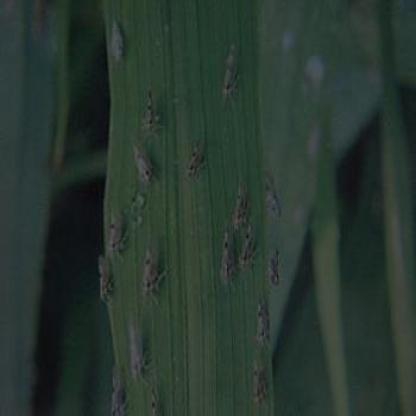brown-planthopper: (124, 322, 148, 383), (140, 243, 164, 301), (223, 46, 244, 110), (186, 134, 212, 180), (141, 87, 160, 142), (232, 183, 254, 230), (93, 256, 115, 302), (109, 213, 130, 261), (130, 143, 154, 183), (240, 231, 263, 271), (265, 170, 283, 221), (219, 233, 235, 286), (249, 363, 270, 403), (106, 18, 124, 64), (256, 297, 270, 348)
